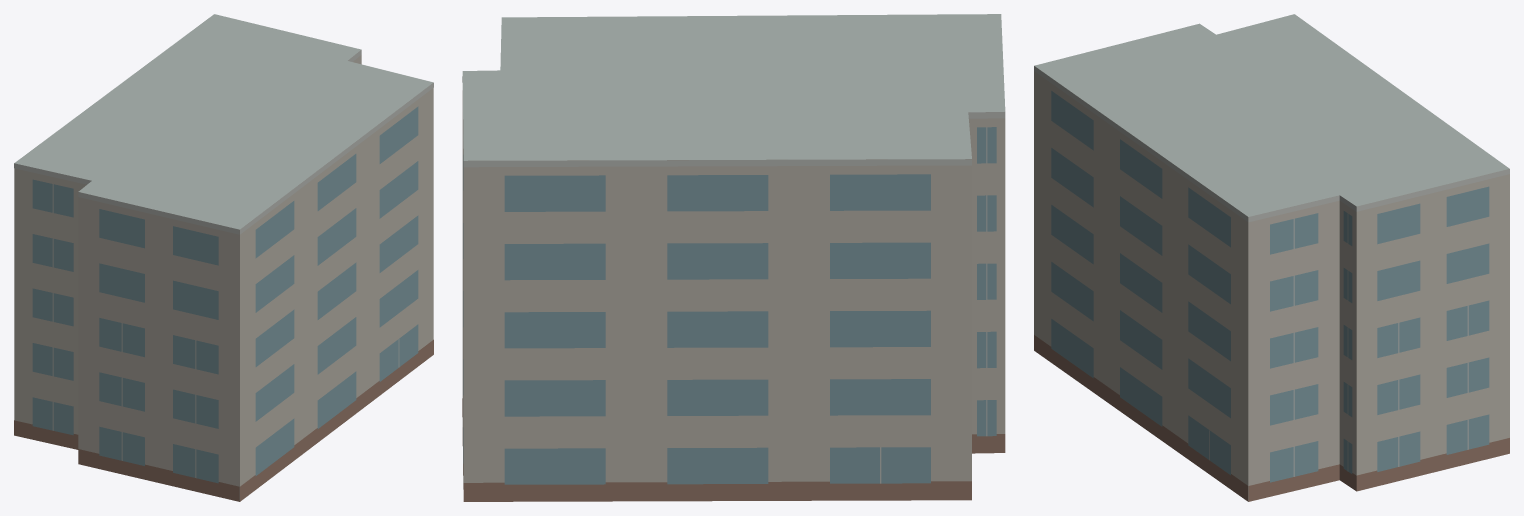
Rendered from survey-upis-32968686.glb.
The picture shows the model from 3 angles, left to right: view 1: azimuth 30°, elevation 25°; view 2: azimuth 150°, elevation 25°; view 3: azimuth 270°, elevation 25°; orthographic projection. The views are drawn at different scales.
Visible parts, largest first — view 1: survey-upis-32968686.tmp; view 2: survey-upis-32968686.tmp; view 3: survey-upis-32968686.tmp.
Boxes of the visible parts, left/top/right/bottom form: survey-upis-32968686.tmp: left=14, top=14, right=433, bottom=501; survey-upis-32968686.tmp: left=462, top=14, right=1005, bottom=501; survey-upis-32968686.tmp: left=1034, top=14, right=1509, bottom=501.
Bounding box in the file's own units: 19.88 × 13 × 19.69.
